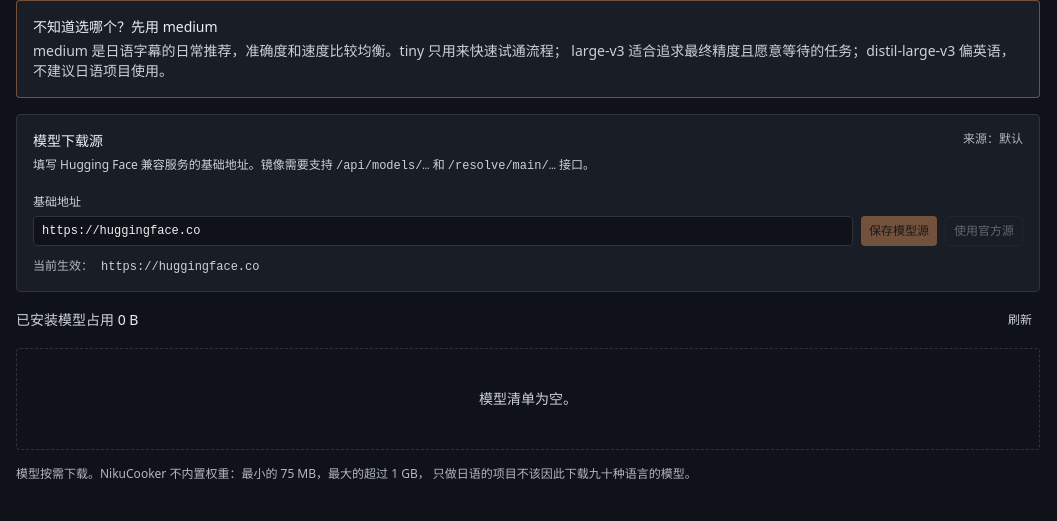
Test: model download source › shows the effective endpoint and saves a compatible mirror
Expected: the label "基础地址" is shown, [33, 193, 81, 210]
Type "https://mirror.example.com" into the field labelled "基础地址".
click(443, 231); type("https://mirror.example.com")  # box [33, 216, 853, 246]
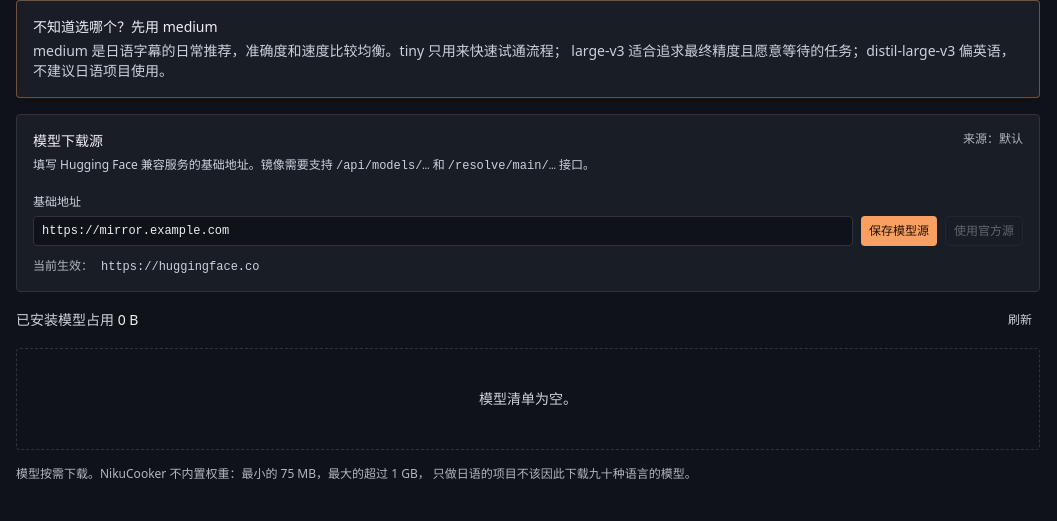
Click the button with test id "save-model-endpoint".
click(899, 231)  # box [861, 216, 937, 246]
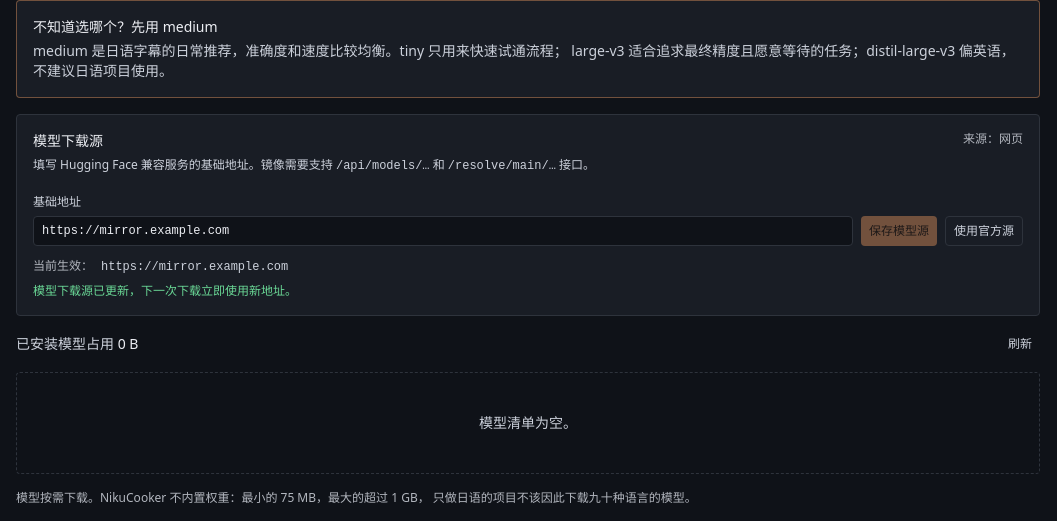
Result: the message "模型下载源已更新，下一次下载立即使用新地址。" is shown at [33, 282, 297, 299]
